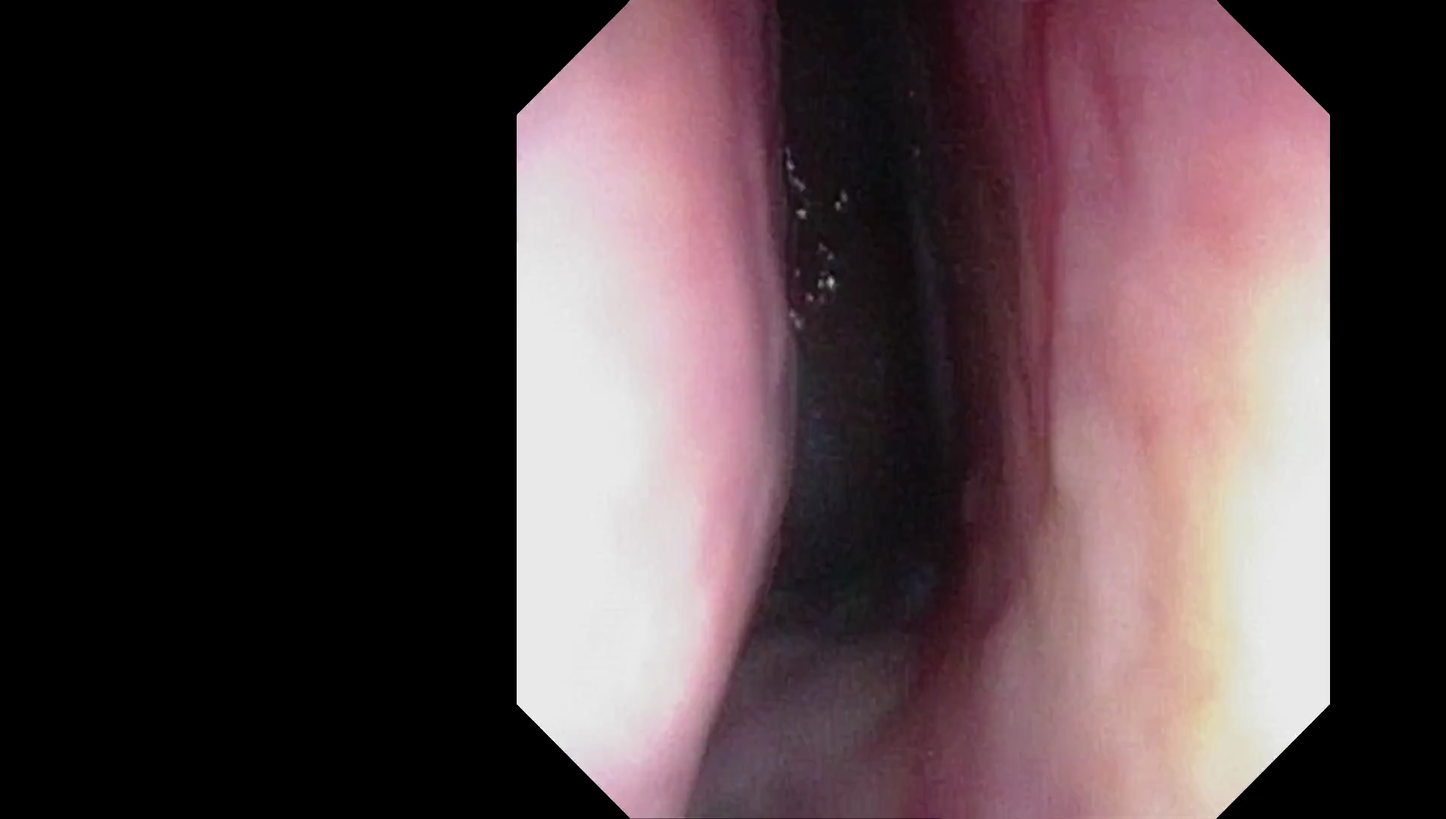close_wall: (1046, 160, 1321, 699), (530, 139, 751, 706)
next: (736, 26, 1017, 669)
